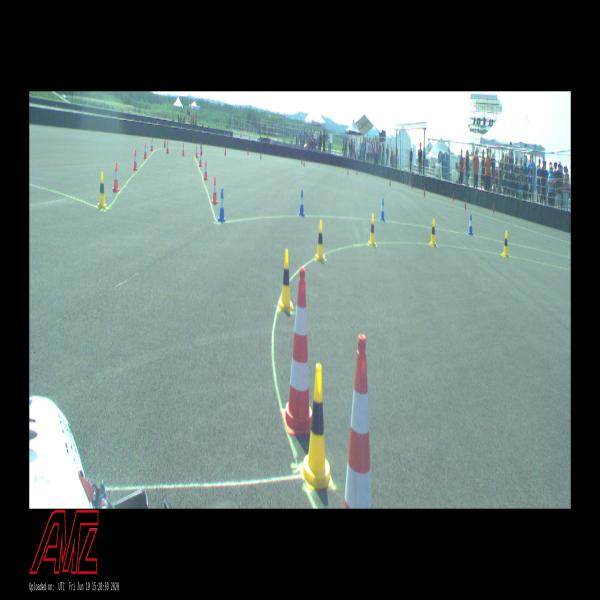blue_cone: (217, 188, 226, 222), (298, 190, 305, 216), (468, 214, 473, 236), (380, 199, 385, 221)
large_orange_cone: (281, 268, 312, 434), (344, 334, 372, 509)
orange_cone: (112, 163, 120, 192), (211, 177, 218, 204), (132, 150, 138, 170), (204, 160, 208, 180), (144, 143, 148, 158), (150, 138, 154, 152), (199, 151, 202, 167), (195, 145, 198, 158), (166, 141, 169, 153), (182, 143, 184, 156)
yellow_cone: (300, 364, 333, 489), (278, 249, 294, 313), (314, 220, 324, 262), (98, 172, 107, 208), (368, 214, 376, 245), (502, 231, 509, 257), (430, 219, 436, 246)
